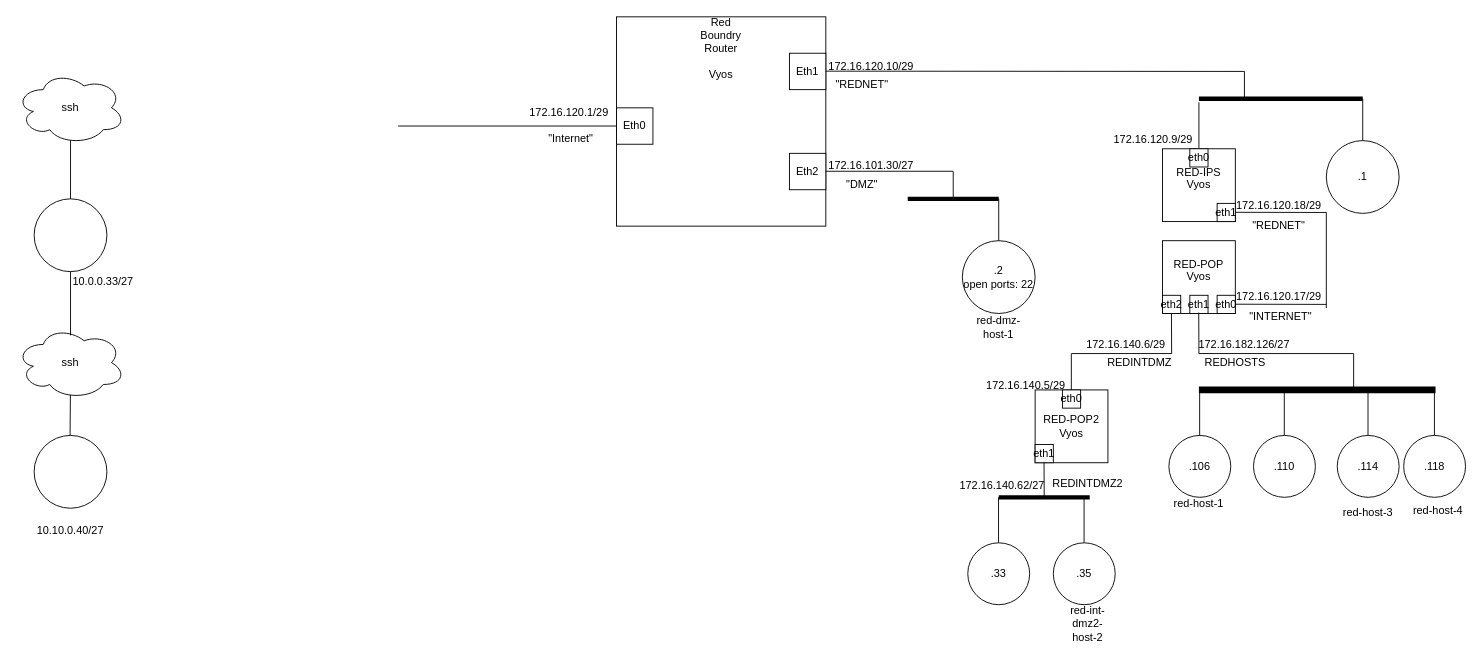
The diagram is 1481 pixels wide and 659 high, and some of its shapes have lost their labels. Here are the shapes that lost their labels. From the top down, the centre of each, then its label:
At point 70,235: "red-internet-host".
At point 70,471: "Blue-Internet-Host".
